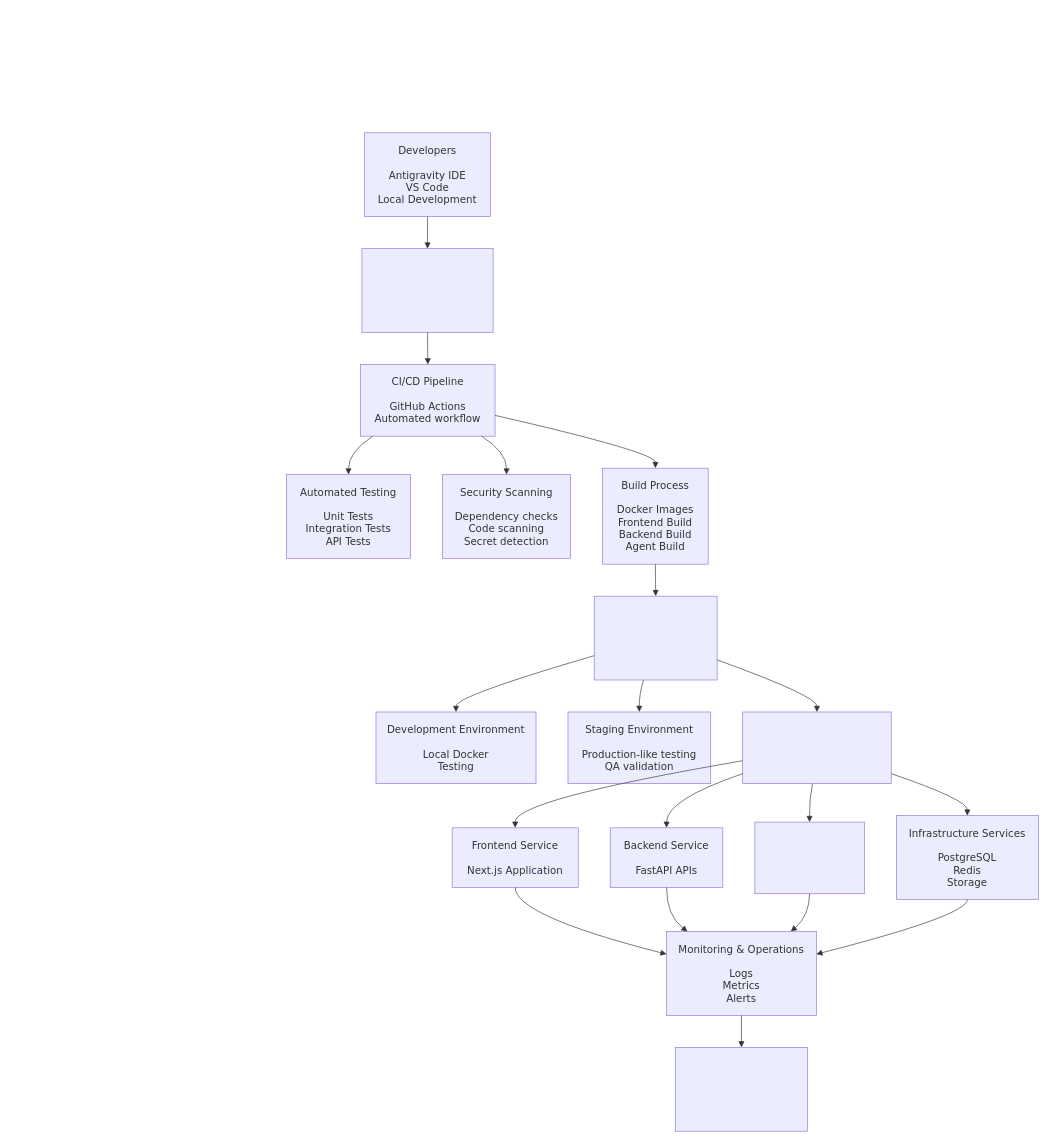
The diagram is 1050 pixels wide and 1142 high, and some of its shapes have lost their labels. The shapes that lost their labels are listed below. From the top down, each one's centre as x and y in pixels, then its label:
At point 427,290: "Git Repository GitHub Source Control Branch Management".
At point 655,638: "Container Registry Docker Images Version Tags Release Artifacts".
At point 816,747: "Production Environment Customer traffic High availability".
At point 809,857: "Agent Service LiveKit Workers Python Agents".
At point 741,1089: "Rollback & Recovery Previous versions Backup restore Disaster recovery".
